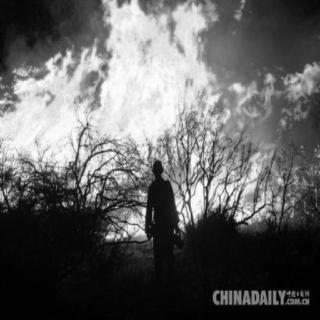Fire: (3, 3, 315, 226)
